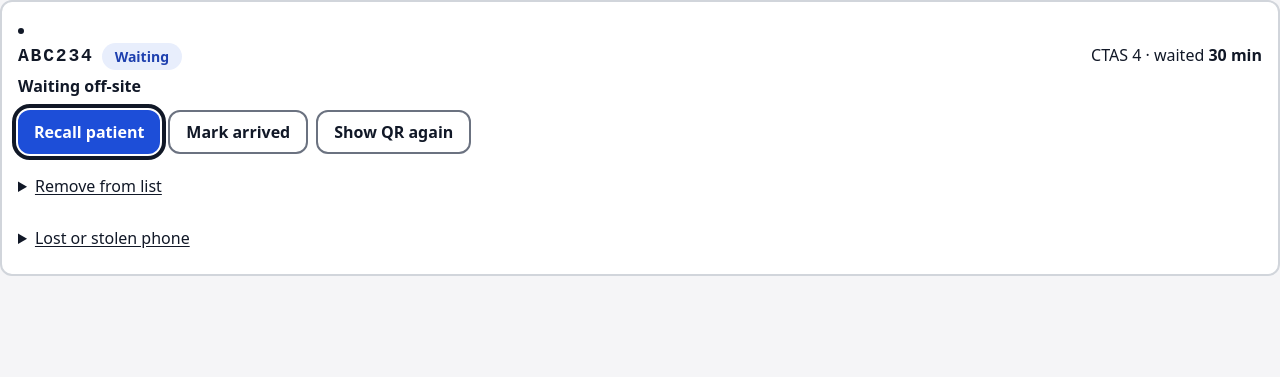
Test: VisitRow recall › when the row shows the called visit before the save says saved, focus lands on the called text
This screenshot has width=1280, height=377.
Click the button "Recall patient" at (89, 132), box [18,110,160,154]
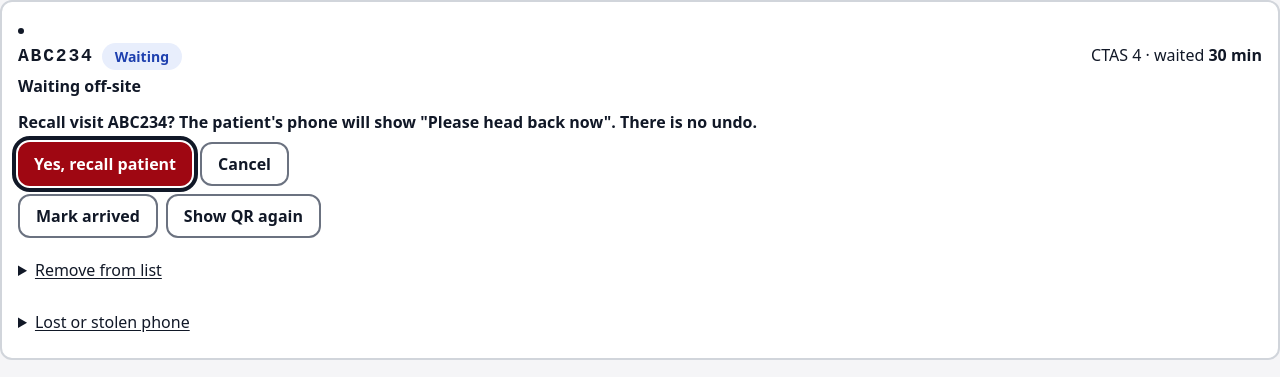
Click the button "Yes, recall patient" at (105, 164), box [18,142,192,186]
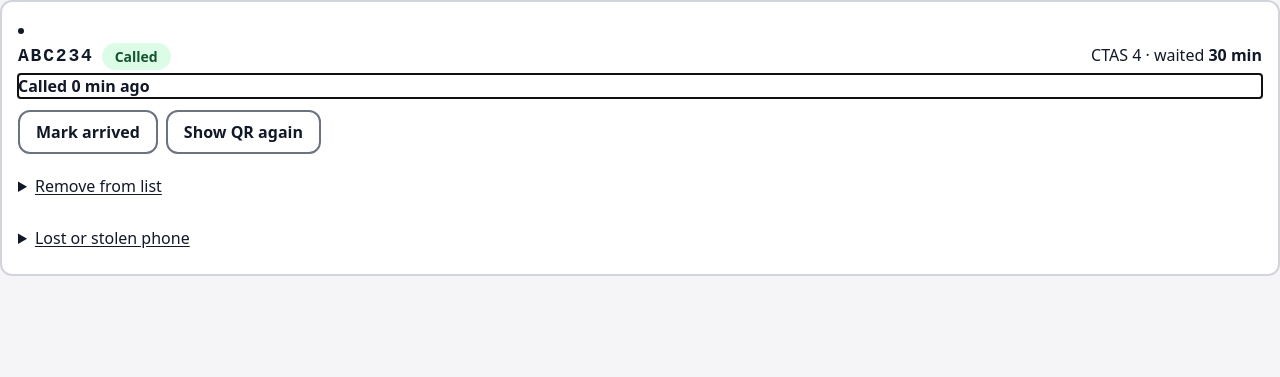
Expected: the element with test id "progress" shows "Called", [18,75,71,97]
Expected: the text with test id "progress" no longer shows "Waiting off-site"
